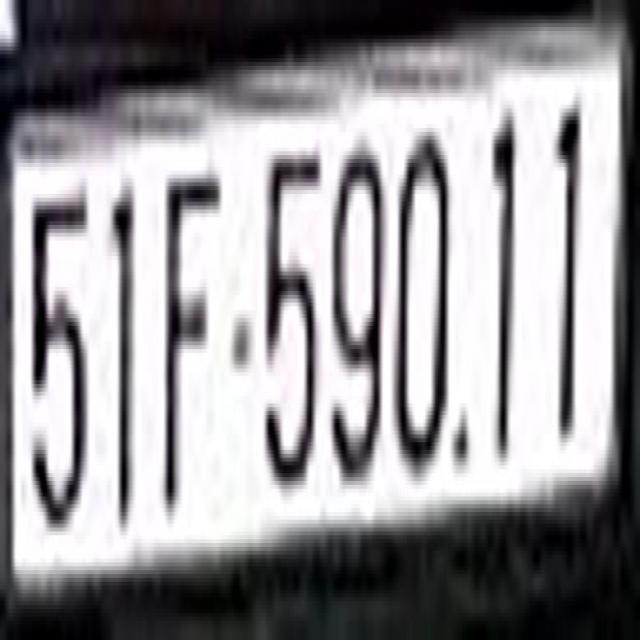0: (392, 120, 451, 477)
1: (556, 70, 586, 478), (487, 97, 515, 473), (112, 167, 140, 536)
5: (261, 128, 322, 508), (30, 162, 90, 536)
9: (328, 143, 386, 481)
F: (158, 163, 226, 524)
